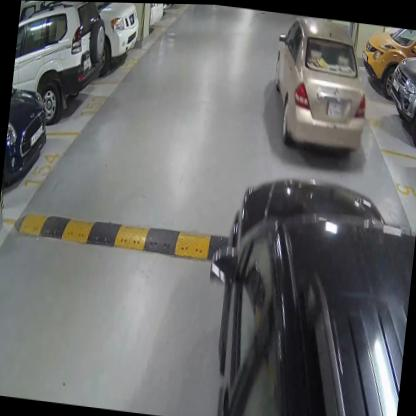np: (326, 95, 344, 118)
